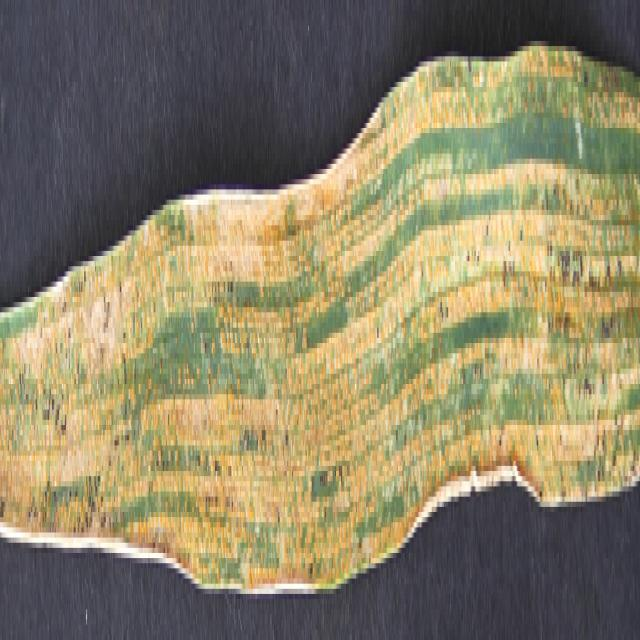leaf rust: (1, 66, 625, 578)
